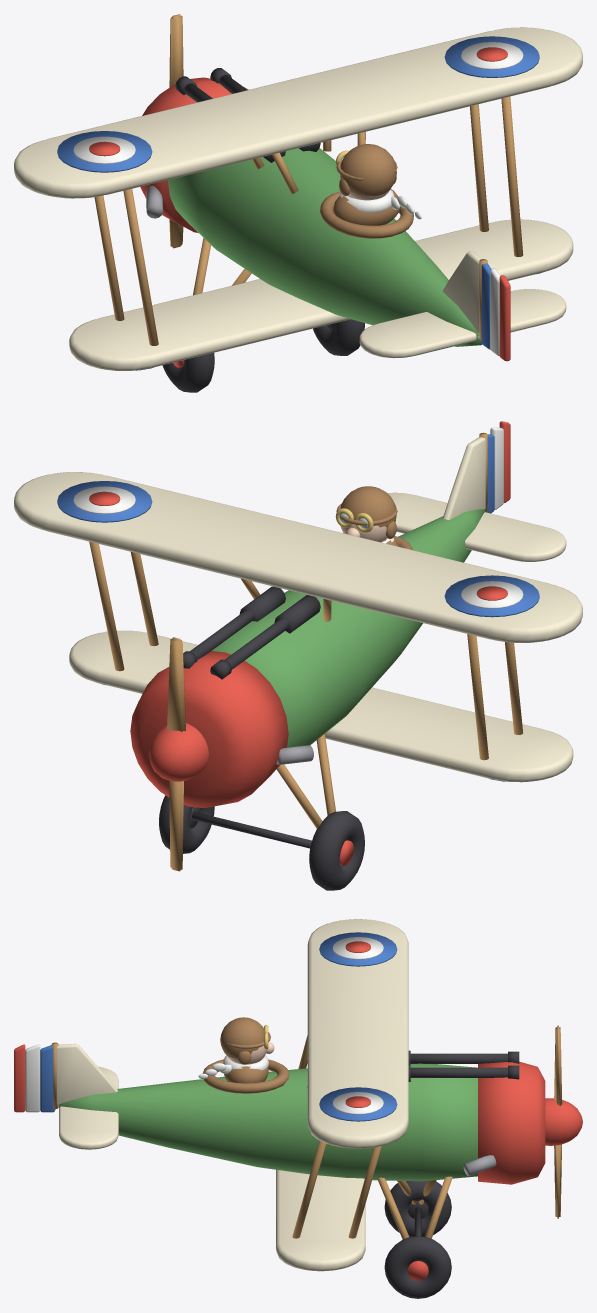
The model's file is biplane.glb.
3 views of the same model, one above another, from view 1: azimuth 30°, elevation 25°; view 2: azimuth 150°, elevation 25°; view 3: azimuth 270°, elevation 25° (orthographic). The views are drawn at different scales.
Visible parts, largest first — view 1: Biplane, Propeller; view 2: Biplane, Propeller; view 3: Biplane, Propeller.
Boxes of the visible parts, x1,y1,x2,y2 form: Biplane: (14, 27, 582, 392); Propeller: (169, 14, 183, 248); Biplane: (14, 421, 582, 890); Propeller: (167, 637, 185, 871); Biplane: (14, 919, 582, 1298); Propeller: (554, 1025, 562, 1218).
Size of the model in its own units: 6.99 by 3.66 by 7.6.
